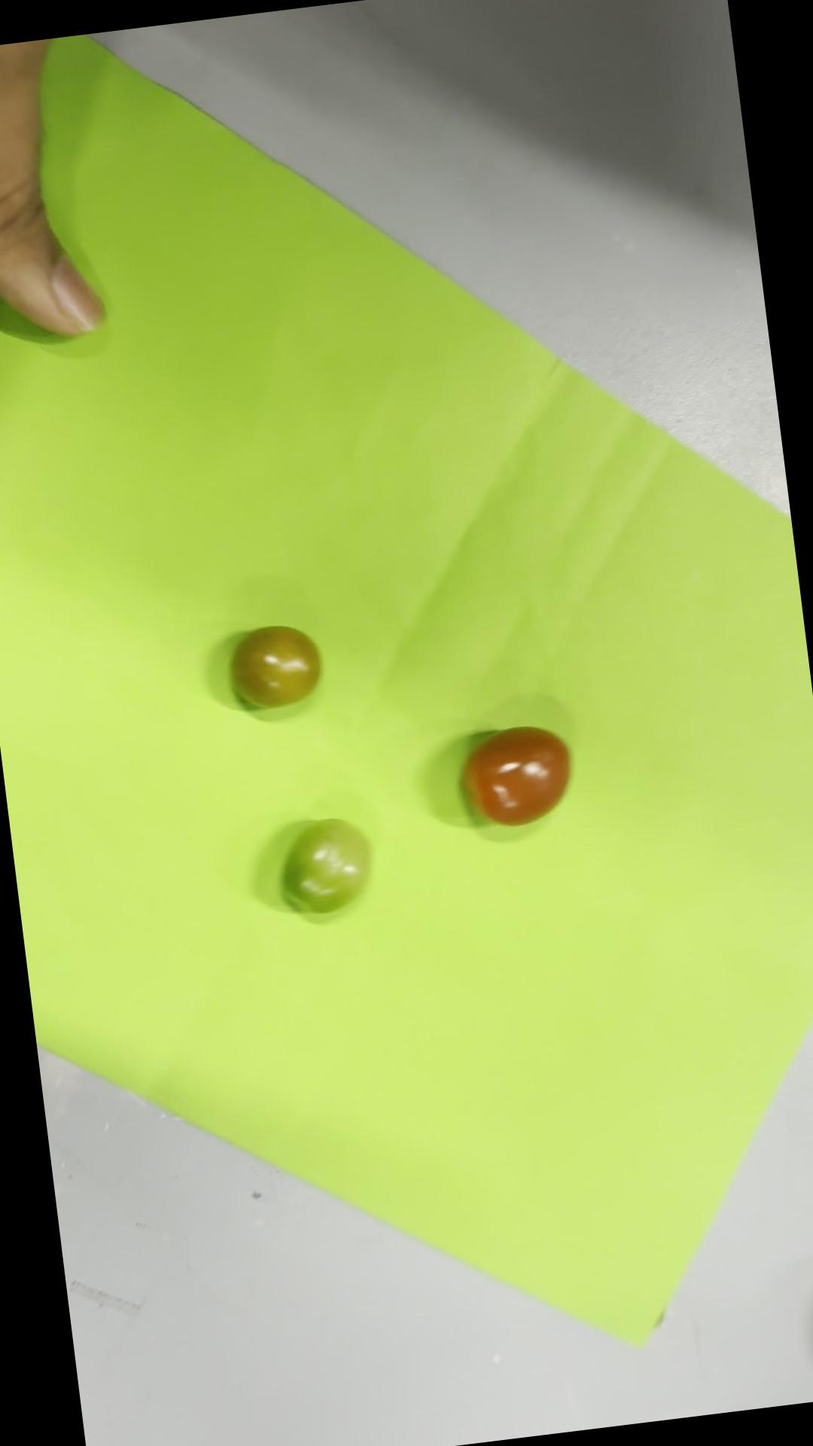green_cherry_tomato: (282, 818, 371, 914)
red_cherry_tomato: (462, 726, 570, 826)
yellow_cherry_tomato: (231, 625, 320, 708)
